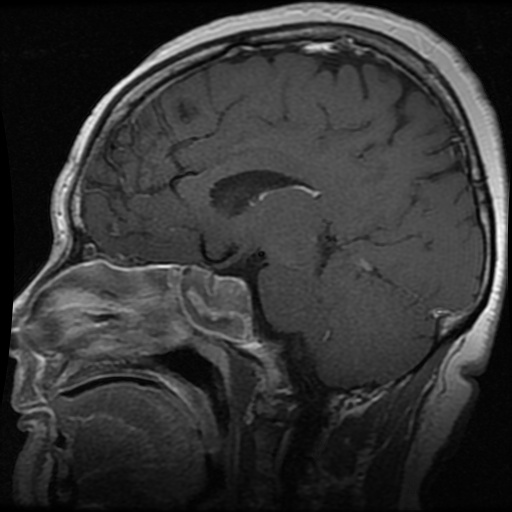pituitary: (214, 278, 249, 311)
